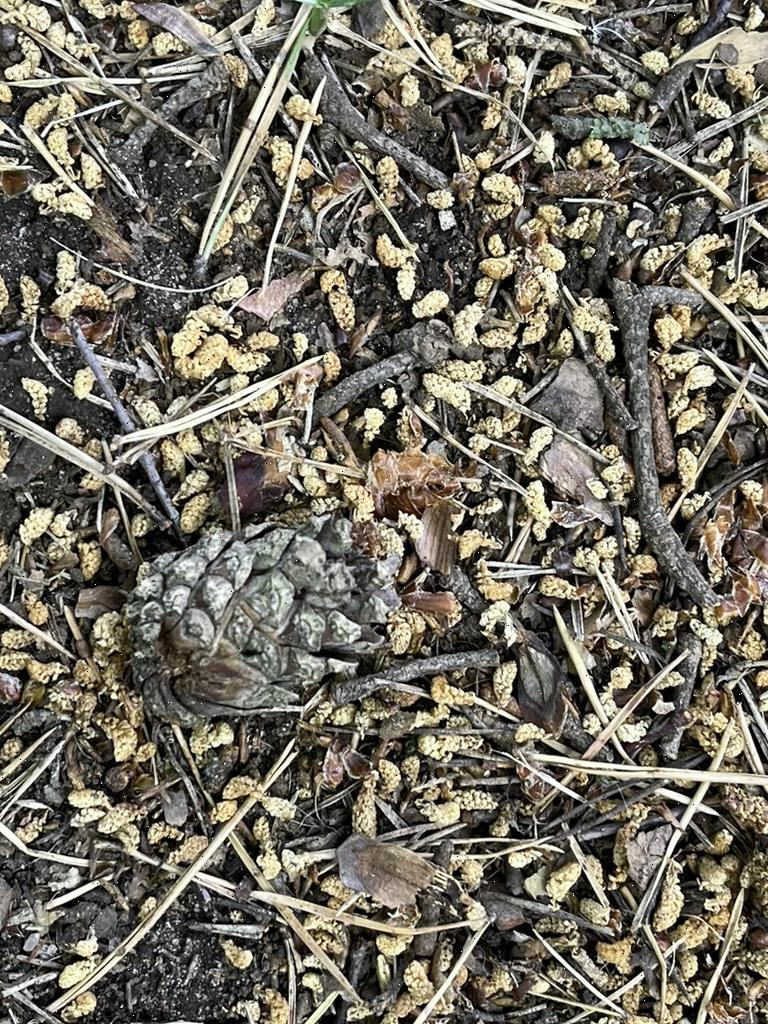pine: (121, 518, 404, 713)
